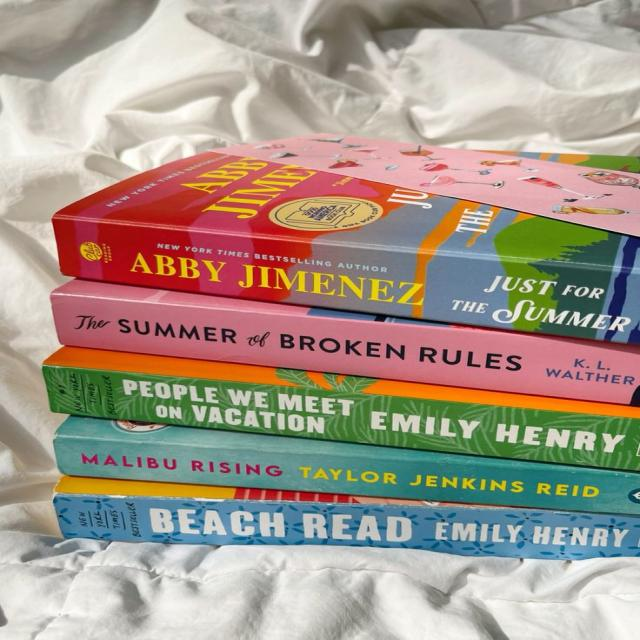book: (53, 213, 640, 345), (55, 293, 640, 406), (43, 364, 640, 473), (58, 438, 638, 512), (52, 494, 640, 559)
